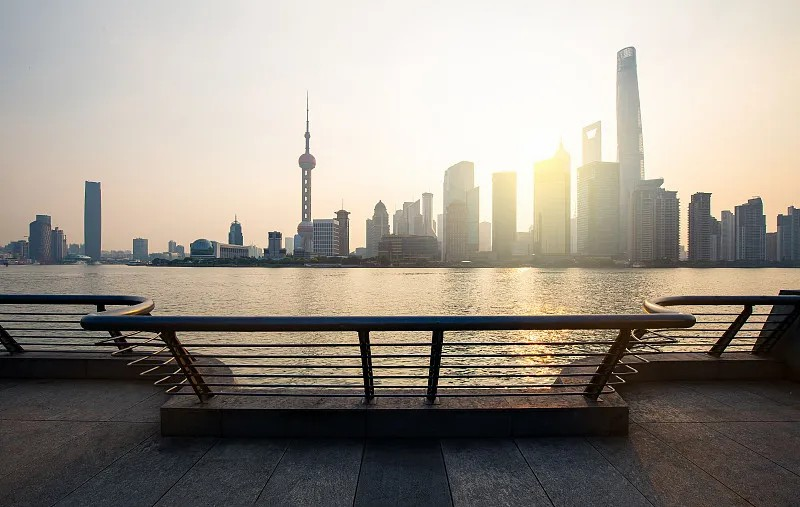Oriental: (298, 90, 316, 250)
